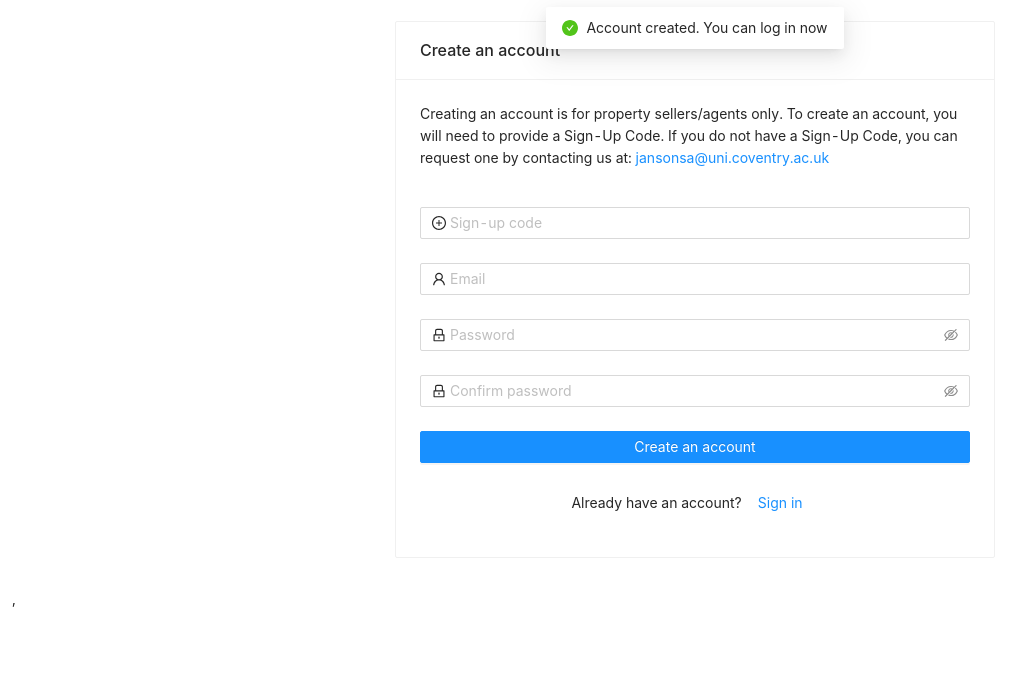
it: when register fails, alert is displayed
Type "test sign-up code" into the field with placeholder "Sign-up code" at (704, 223), box top-left (450, 212), bottom-right (958, 234)
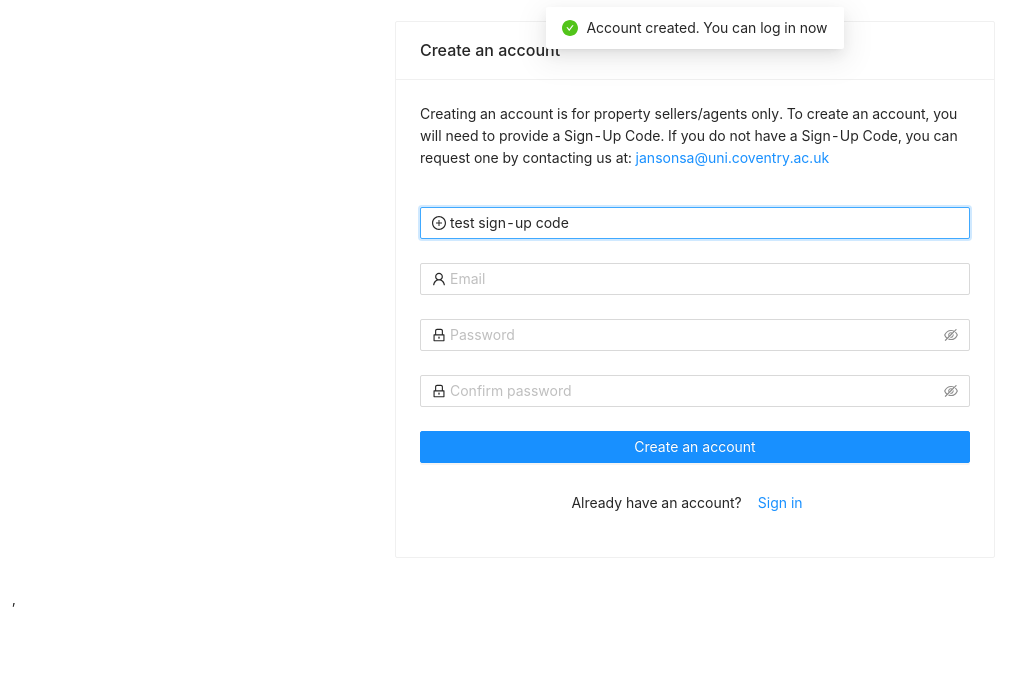
Type "user@email.com" into the field with placeholder "Email" at (704, 279), box top-left (450, 268), bottom-right (958, 290)
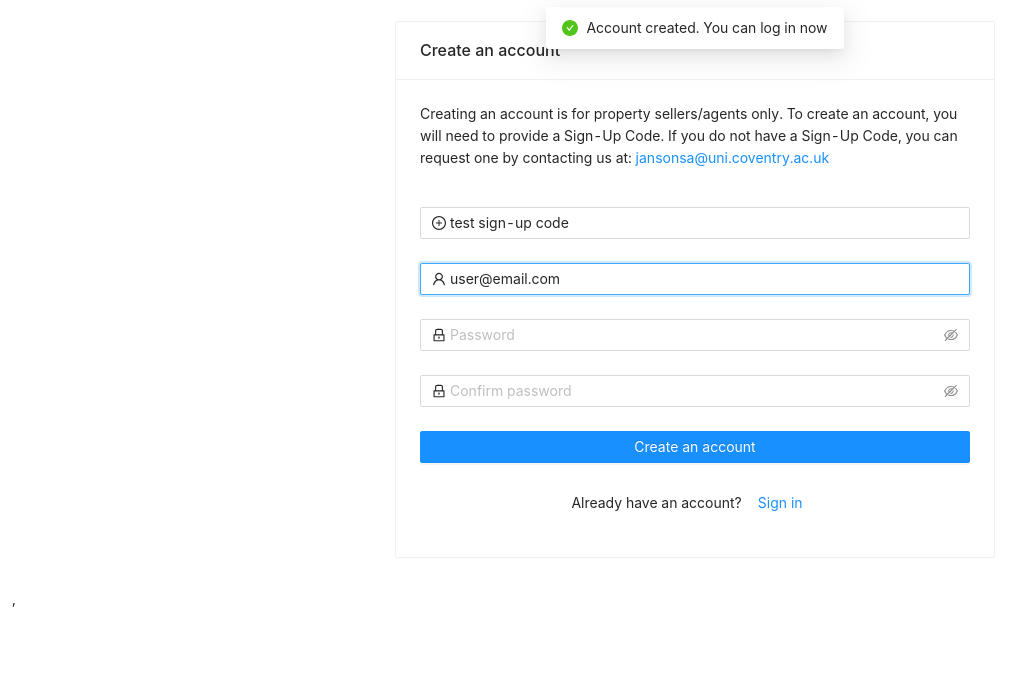
Type "password" into the password field with placeholder "Password" at (695, 335), box top-left (450, 324), bottom-right (940, 346)
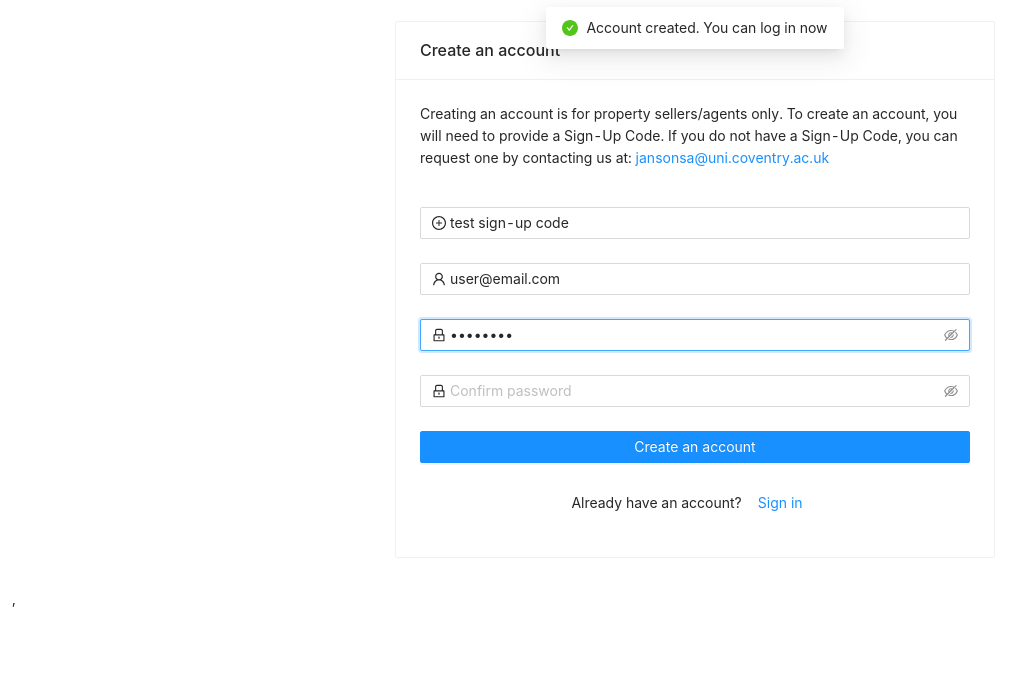
Type "password" into the password field with placeholder "Confirm password" at (695, 391), box top-left (450, 380), bottom-right (940, 402)
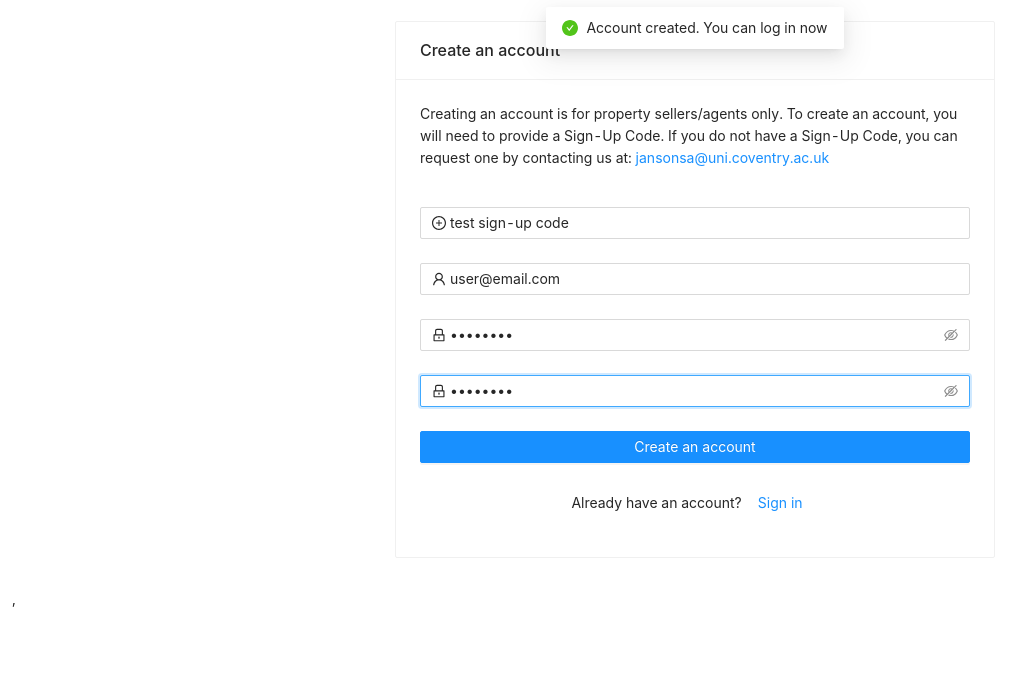
Click the submit button at (695, 447), box top-left (420, 431), bottom-right (970, 463)
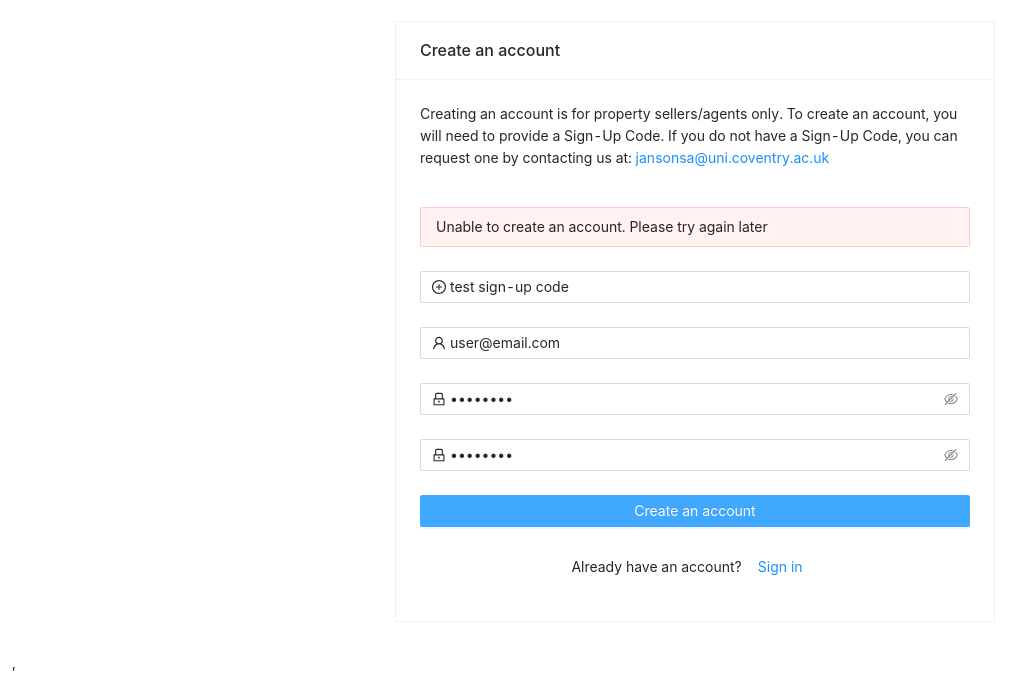
Result: the text "Unable to create an account. Please try again later" is shown at top-left (436, 218), bottom-right (768, 235)
